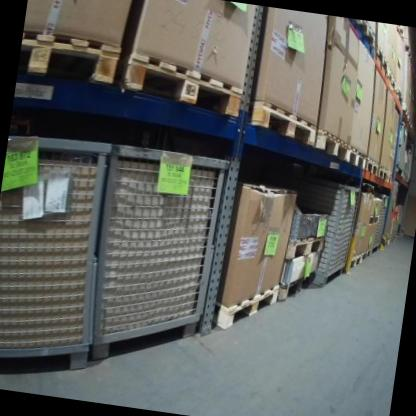pallet: (117, 48, 248, 121), (18, 31, 123, 88), (212, 274, 281, 340), (246, 95, 322, 149), (279, 266, 318, 306), (313, 126, 353, 164), (285, 231, 326, 264), (354, 20, 379, 47), (347, 147, 368, 172), (346, 249, 361, 274), (364, 156, 380, 178), (375, 51, 391, 72), (361, 245, 374, 265), (367, 212, 380, 228), (377, 165, 388, 183), (383, 239, 394, 247)
stillage: (78, 134, 237, 383), (0, 129, 120, 383), (252, 160, 363, 294), (368, 192, 391, 253), (391, 122, 411, 178), (401, 140, 416, 186)
